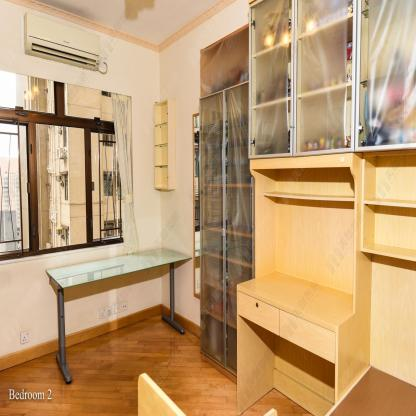AC: (24, 12, 101, 71)
